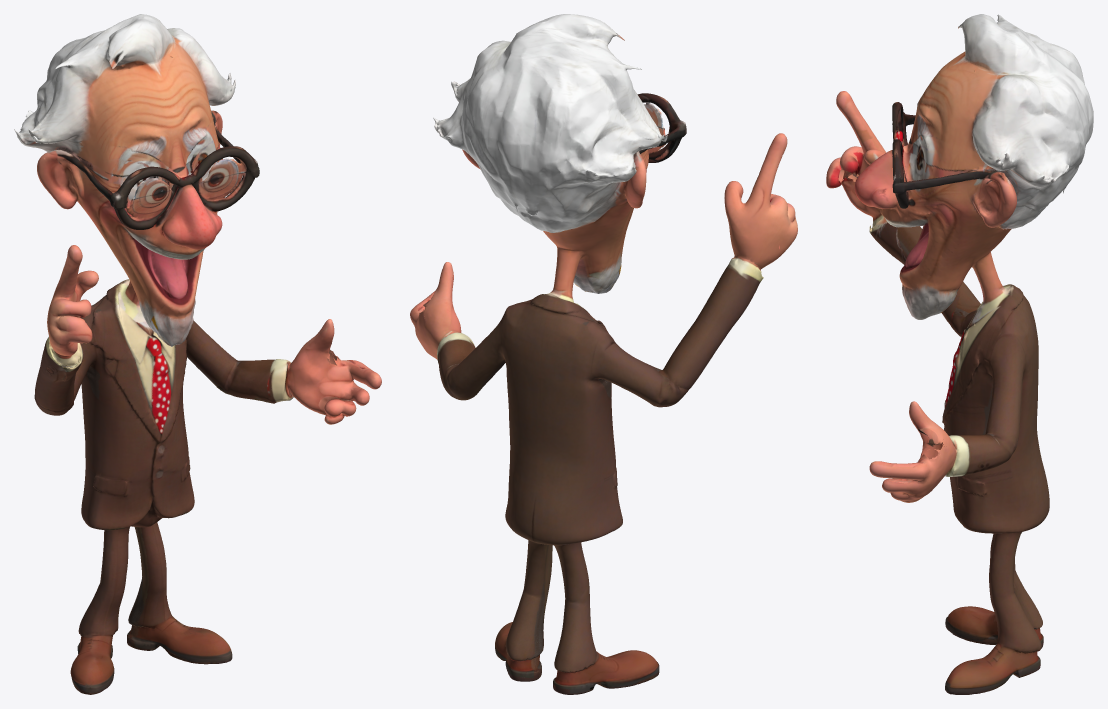
Rendered from bebu.glb.
3 renders of one model, left to right at view 1: azimuth 30°, elevation 25°; view 2: azimuth 150°, elevation 25°; view 3: azimuth 270°, elevation 25°, orthographic. The views are drawn at different scales.
Parts seen in each view (by area): view 1: Mesh_0; view 2: Mesh_0; view 3: Mesh_0.
Boxes of the visible parts, left/top/right/bottom form: Mesh_0: left=14, top=14, right=381, bottom=694; Mesh_0: left=410, top=14, right=797, bottom=694; Mesh_0: left=826, top=14, right=1093, bottom=694.
Size of the model in its own units: 1.12 by 2 by 0.7604.
1 material, 1 textured.
